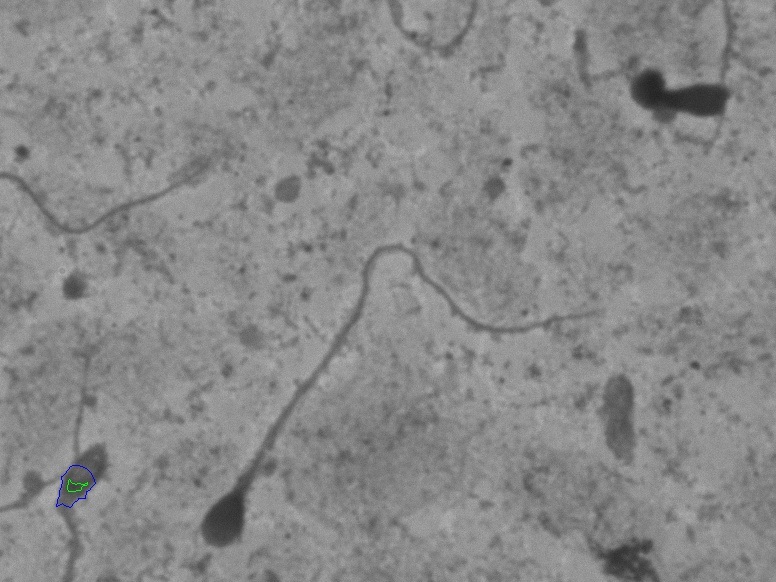Abnormal: (188, 232, 616, 554)
